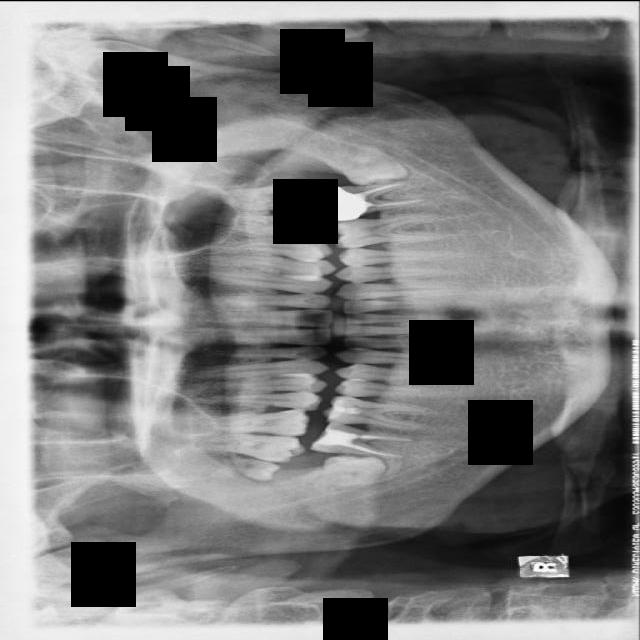3M ESPE Implant: (201, 448, 280, 483)
52: (308, 412, 360, 466), (318, 177, 368, 227), (322, 395, 361, 423)
73: (350, 176, 428, 215), (339, 426, 415, 460), (575, 51, 591, 57)
BioHorizons Implant: (213, 178, 315, 211)
Biomet 3i Implant: (332, 139, 408, 187)
Blue Sky Bio Implant: (318, 176, 428, 222)
Caries: (196, 429, 306, 463)
Implant: (309, 419, 415, 460)
Keystone Dental Implant: (322, 452, 387, 488)
